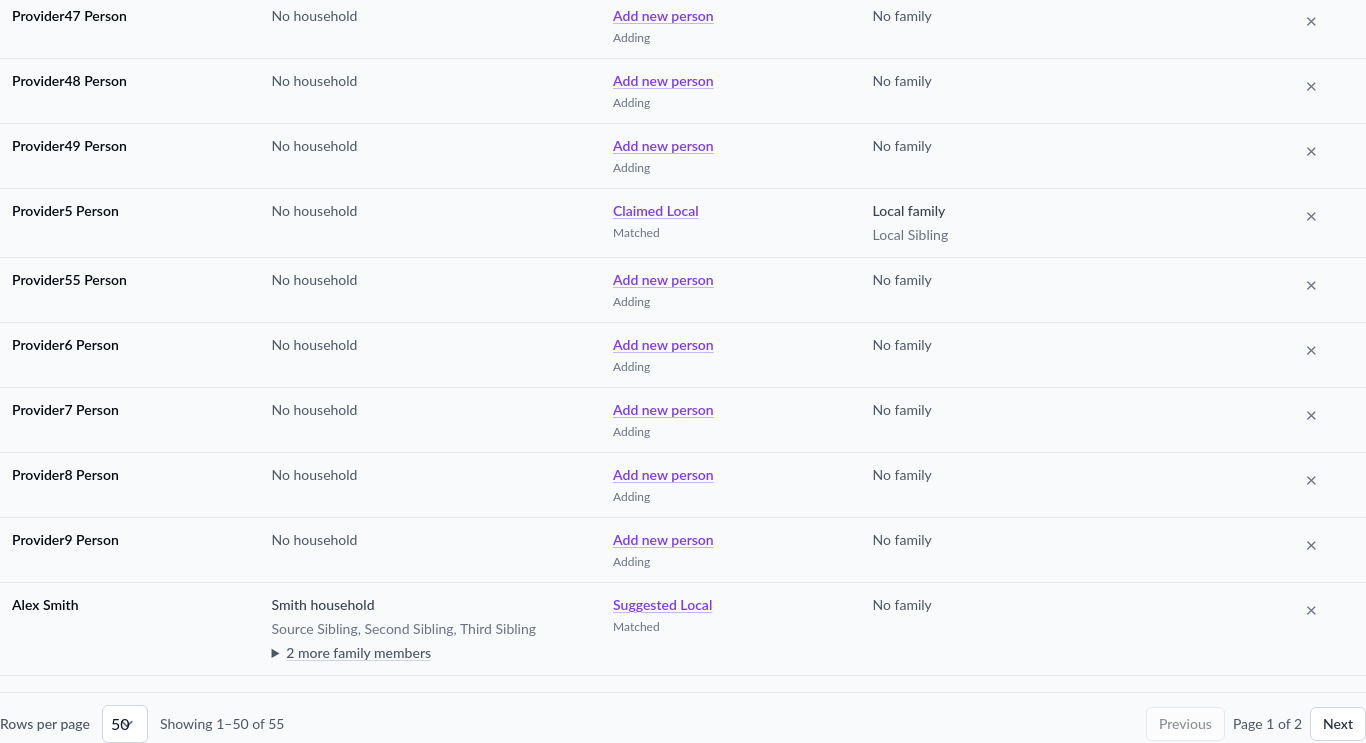
Test: IdentityReviewTable rendering › defaults to fifty rows, supports rows-per-page selection, and retains decisions across pages
(page scrolled)
Expected: the dropdown labelled "Rows per page" shows "50", [102,705,148,742]
Expected: the text "Showing 1–50 of 55" is shown, [160,714,284,734]
Click the button "Suggested Local" at {"x": 663, "y": 605}, box [613,595,712,615]
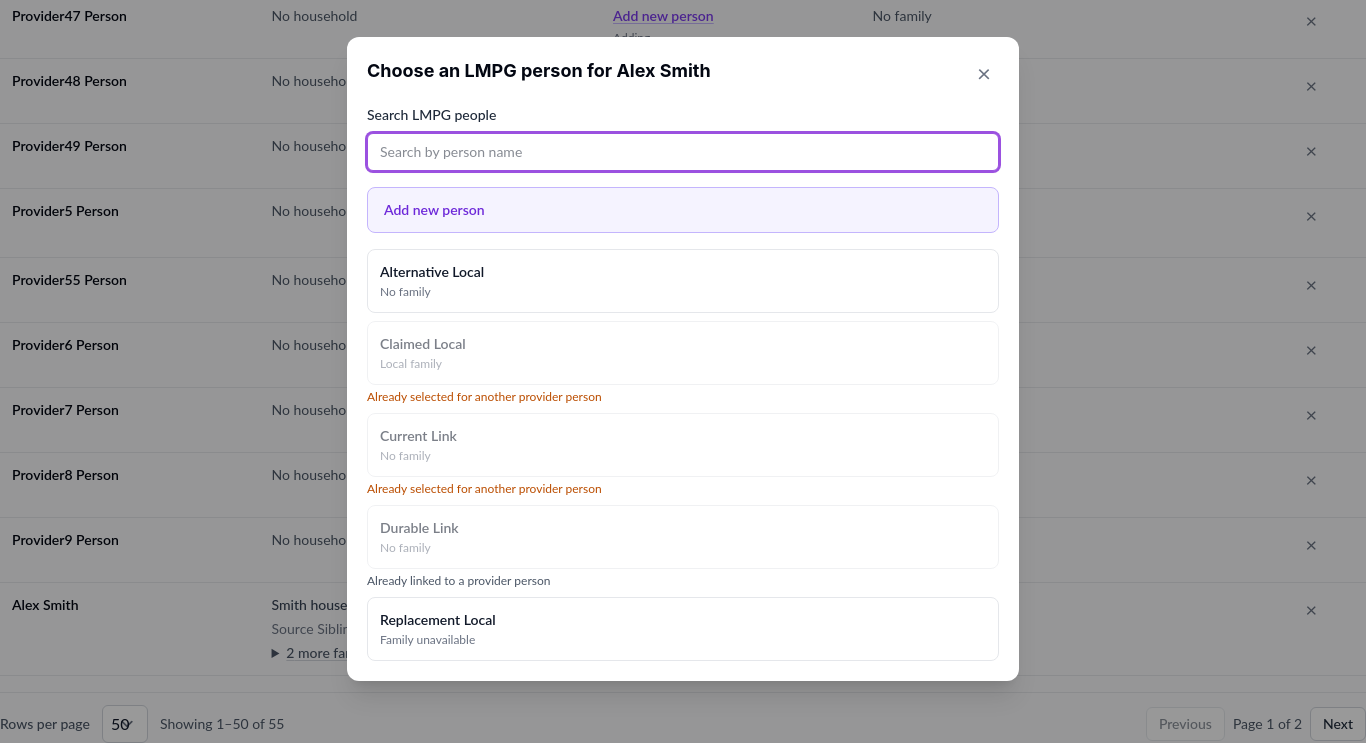
Click the button "Add new person" at {"x": 434, "y": 210}, box [367,187,999,233]
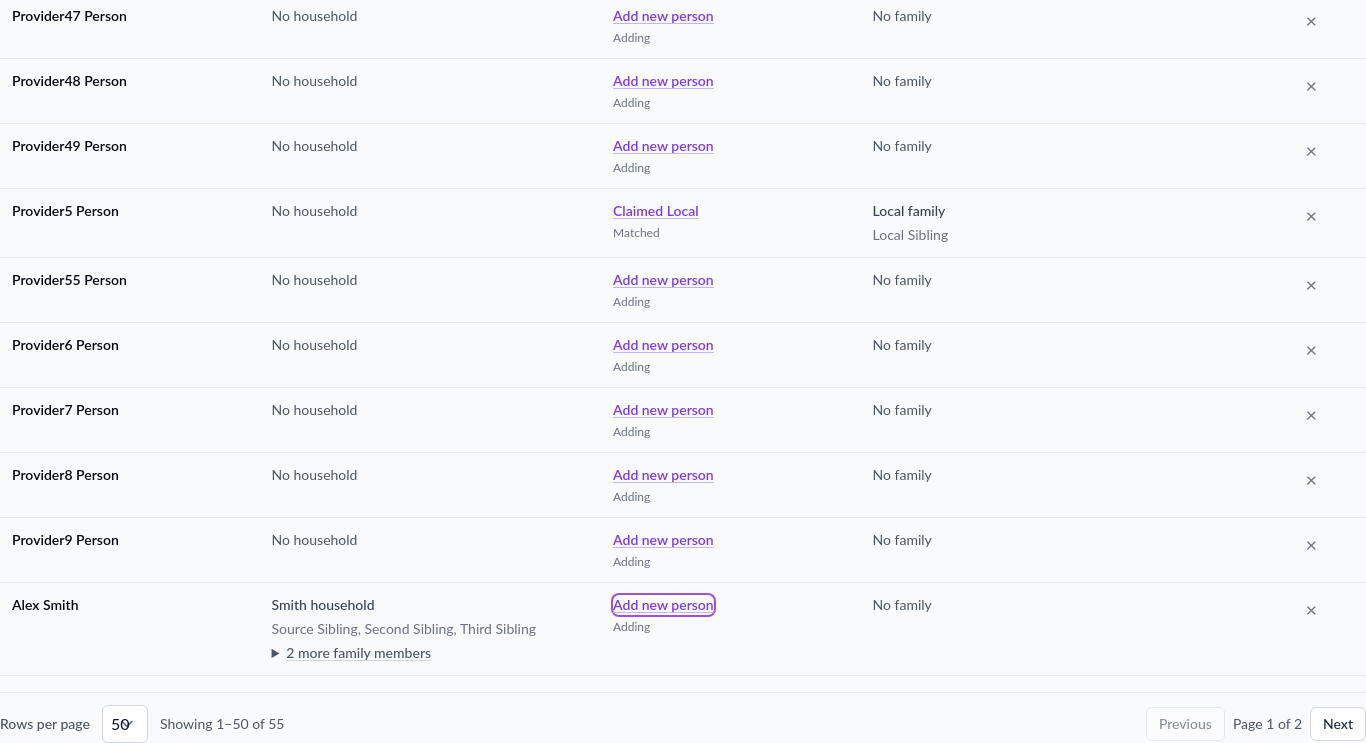
Click the button with aria-label "Next page" at {"x": 1338, "y": 724}, box [1310,707,1365,741]
(page scrolled)
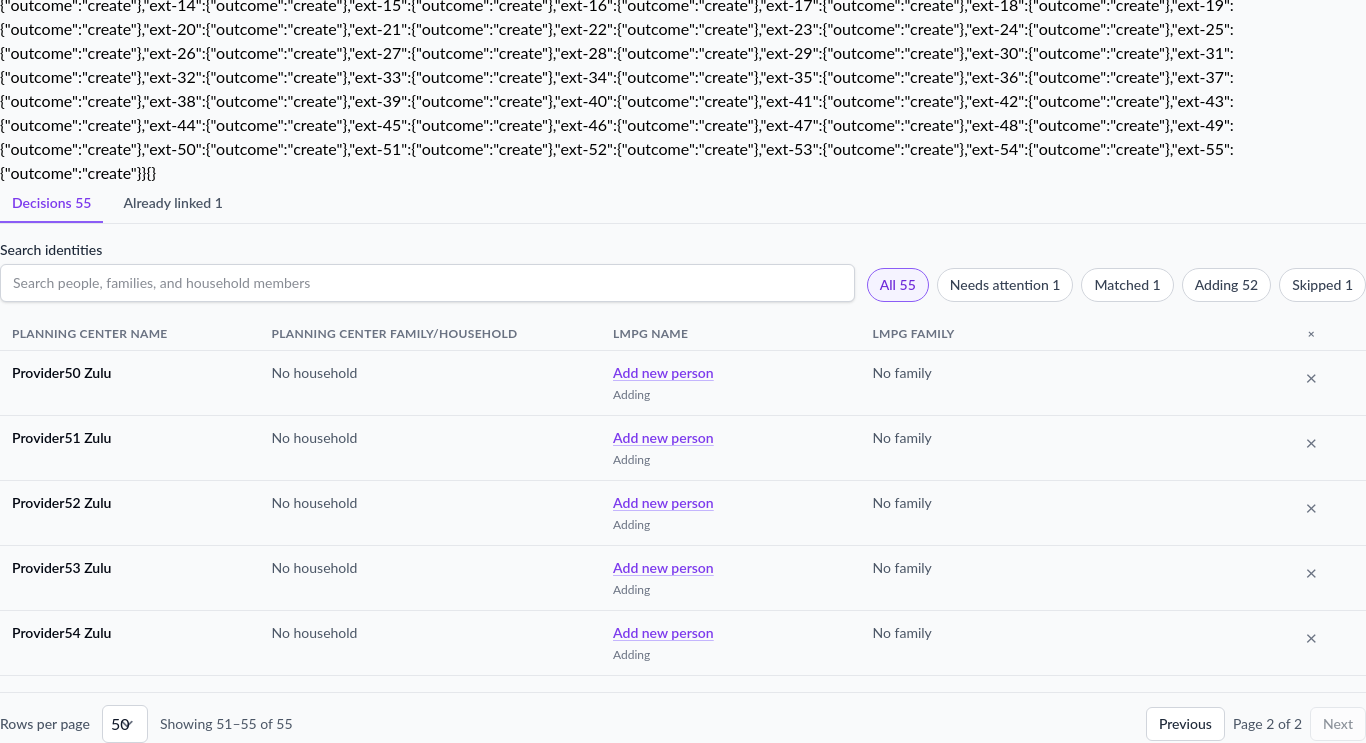
Now the text "Showing 51–55 of 55" is shown, box [160,714,293,734]
Click the button with aria-label "Previous page" at {"x": 1185, "y": 724}, box [1146,707,1225,741]
(page scrolled)
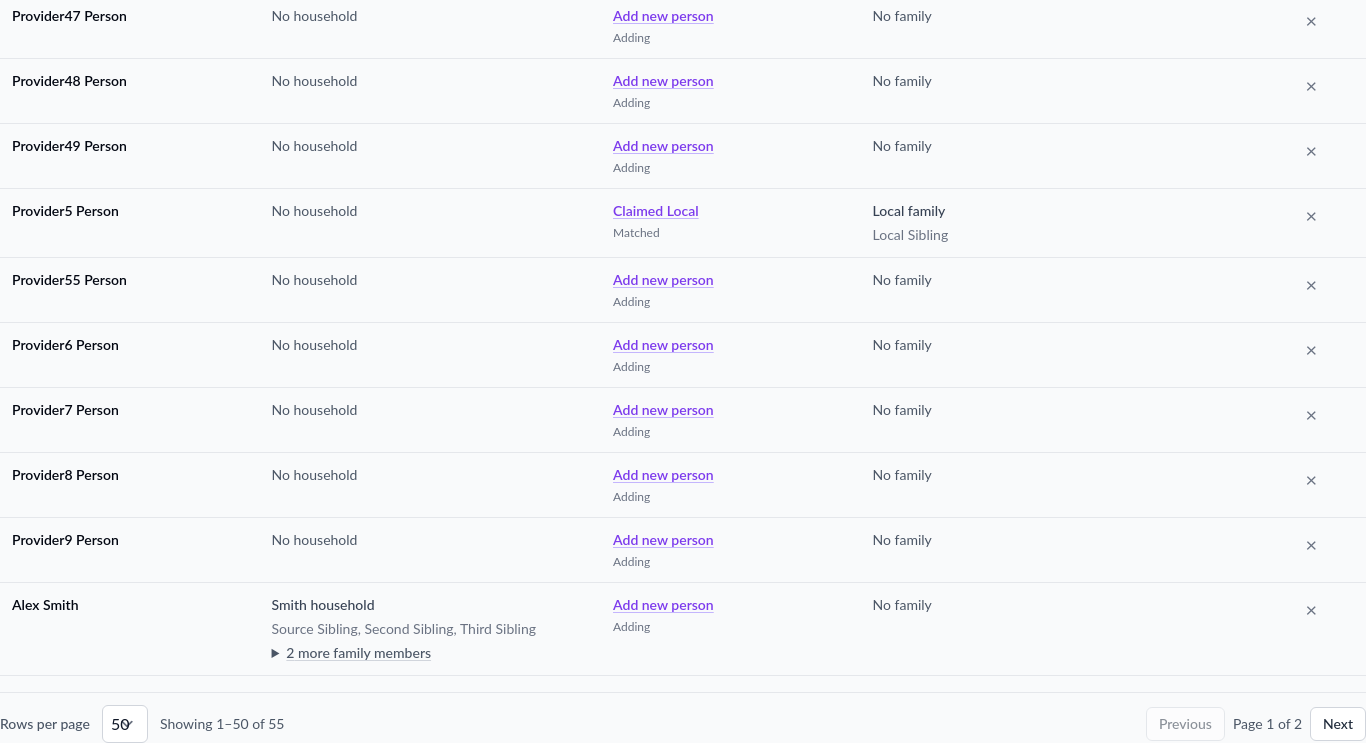
Select "25" in the dropdown labelled "Rows per page" at {"x": 125, "y": 724}, box [102,705,148,742]
(page scrolled)
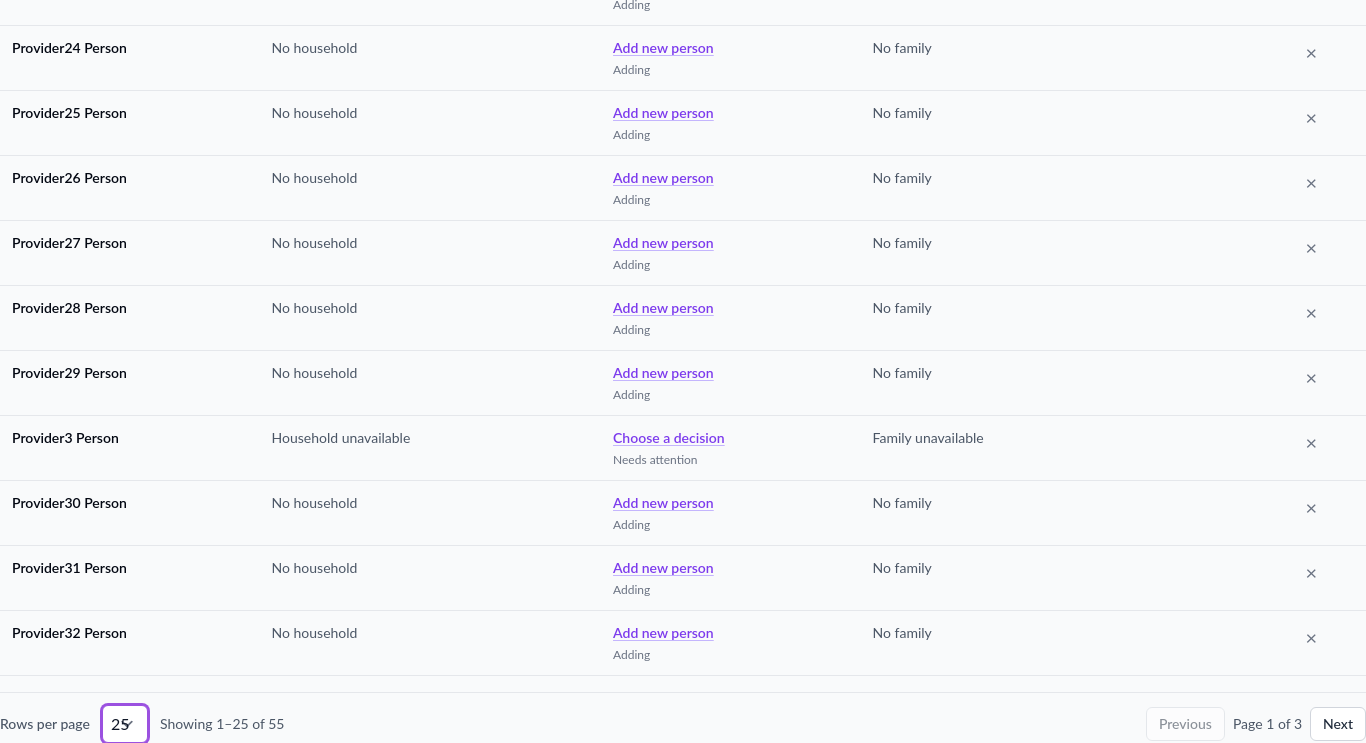
Now the text "Page 1 of 3" is shown, box [1233,714,1302,734]
Now the text "Showing 1–25 of 55" is shown, box [160,714,284,734]
